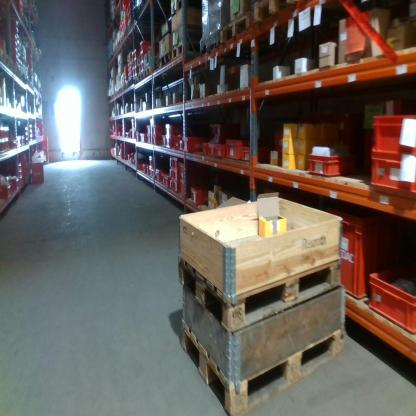pallet: (179, 318, 345, 414), (179, 248, 342, 336), (252, 1, 310, 25), (219, 10, 254, 45), (170, 39, 200, 65), (200, 27, 221, 59), (170, 1, 202, 16), (156, 50, 170, 71), (11, 57, 23, 79), (1, 48, 11, 72), (127, 14, 135, 39), (144, 64, 155, 82), (132, 75, 138, 90), (138, 70, 144, 83), (123, 80, 128, 95), (119, 34, 123, 49), (123, 26, 126, 43), (129, 77, 132, 90)
small_load_carrier: (331, 211, 398, 305), (369, 259, 414, 336), (371, 111, 416, 156), (370, 154, 414, 197), (310, 149, 366, 178), (243, 144, 277, 168), (226, 137, 252, 163), (190, 183, 211, 208), (177, 159, 187, 198), (202, 142, 217, 161), (187, 138, 201, 158), (166, 124, 186, 137), (31, 161, 44, 181), (214, 142, 229, 158), (139, 42, 157, 54), (148, 154, 164, 166), (166, 156, 178, 170), (166, 136, 178, 148), (160, 171, 169, 187), (175, 135, 184, 150), (153, 134, 164, 146), (169, 167, 178, 181), (154, 125, 166, 135), (170, 178, 177, 192), (178, 138, 186, 150), (149, 166, 156, 179), (138, 63, 147, 72), (145, 125, 153, 135), (137, 51, 145, 60), (162, 136, 167, 148), (156, 169, 162, 178), (146, 134, 152, 141)
